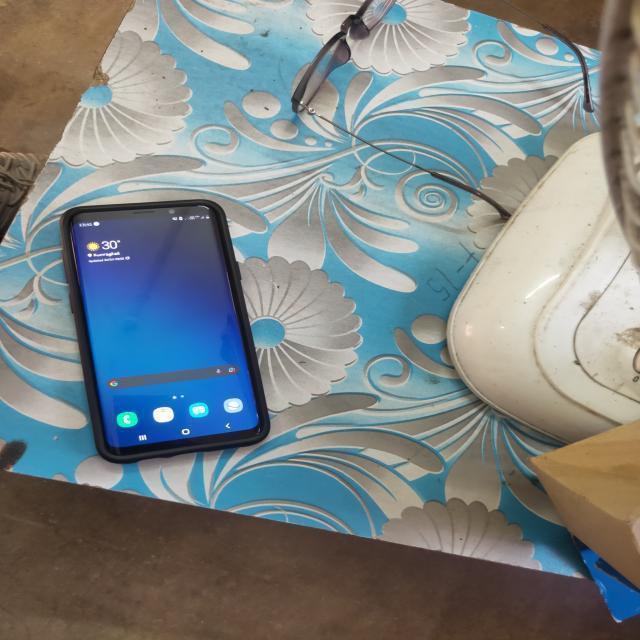Phone: (57, 197, 276, 460)
